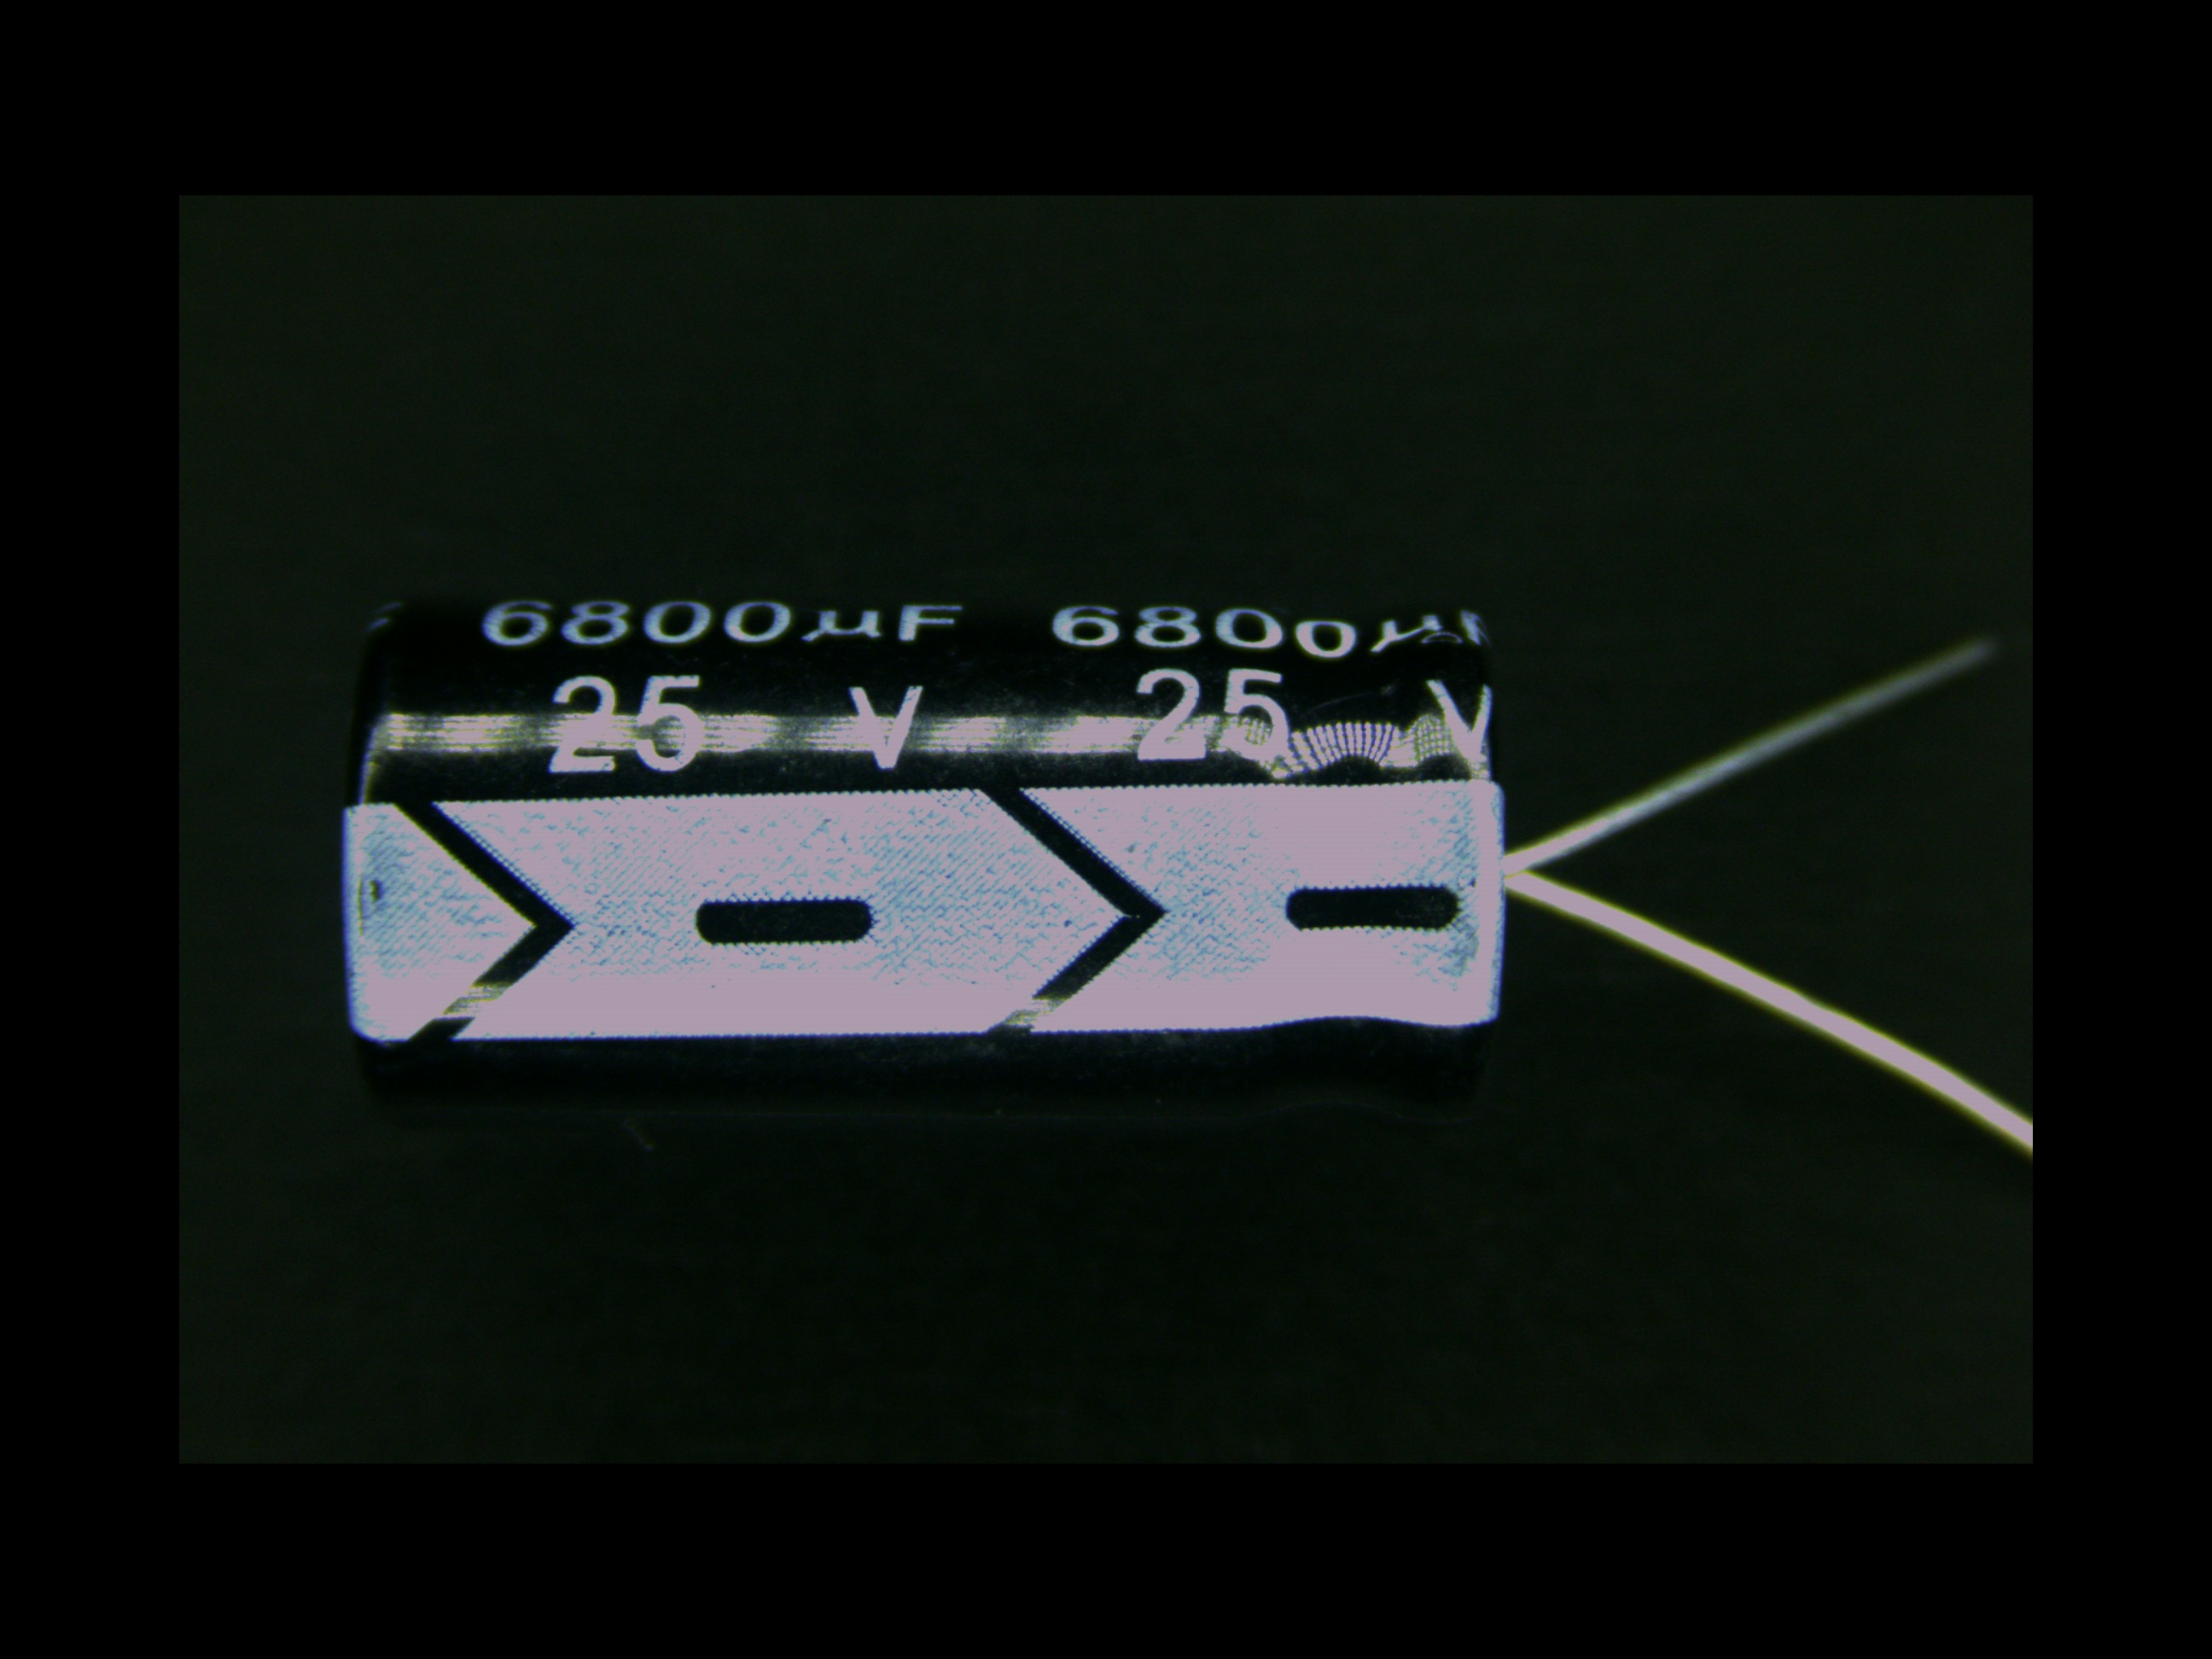c3: (333, 582, 1775, 1141)
